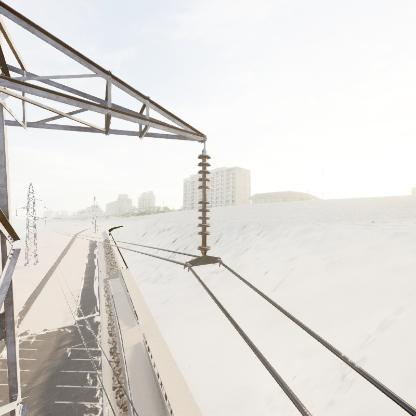insulator: (193, 152, 215, 257)
tower: (9, 182, 51, 266)
